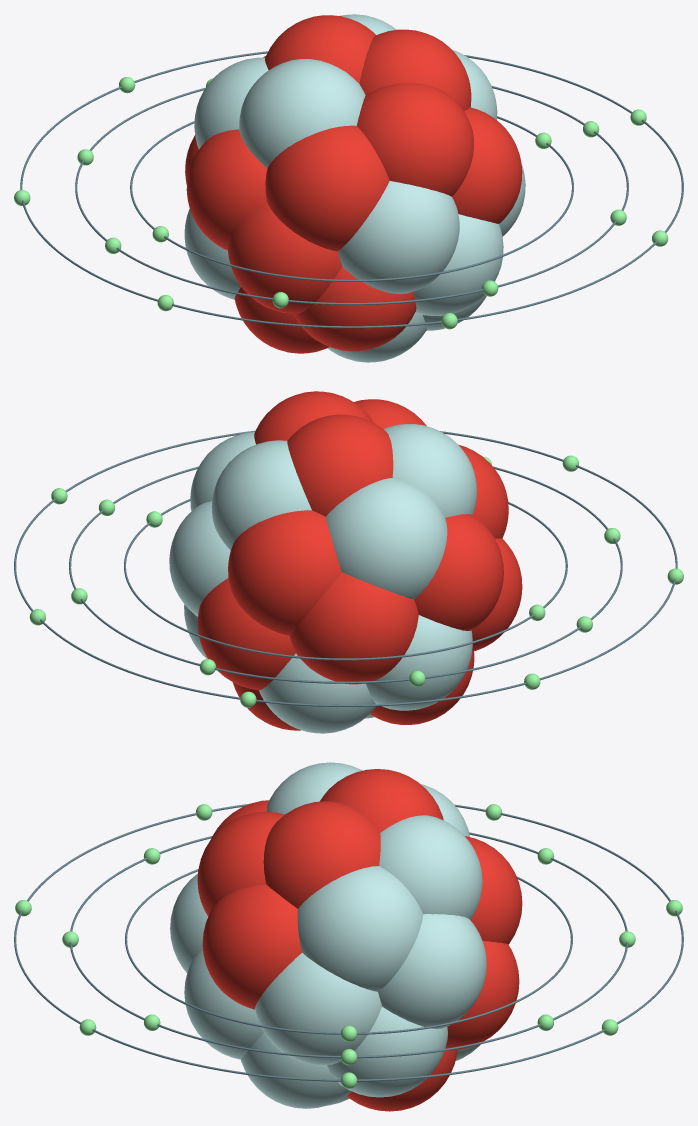
File: chlorine.glb
3 renders of one model, top to bottom at view 1: azimuth 30°, elevation 25°; view 2: azimuth 150°, elevation 25°; view 3: azimuth 270°, elevation 25°, orthographic.
Visible parts, largest first — view 1: element_017_chlorine; view 2: element_017_chlorine; view 3: element_017_chlorine.
Part boxes in pixels (x1,y1,x2,y2): element_017_chlorine: (14, 14, 683, 362); element_017_chlorine: (14, 391, 683, 733); element_017_chlorine: (14, 762, 683, 1111).
Size of the model in its own units: 6.57 by 3.41 by 6.5.
